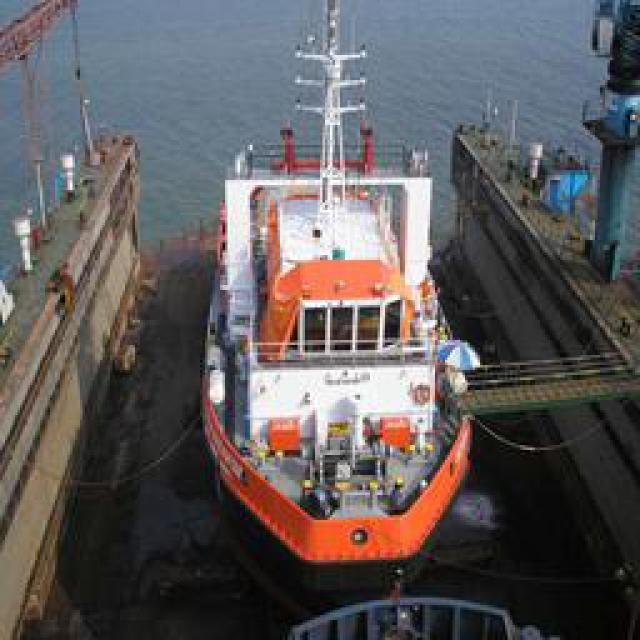Ship: (206, 2, 476, 620)
